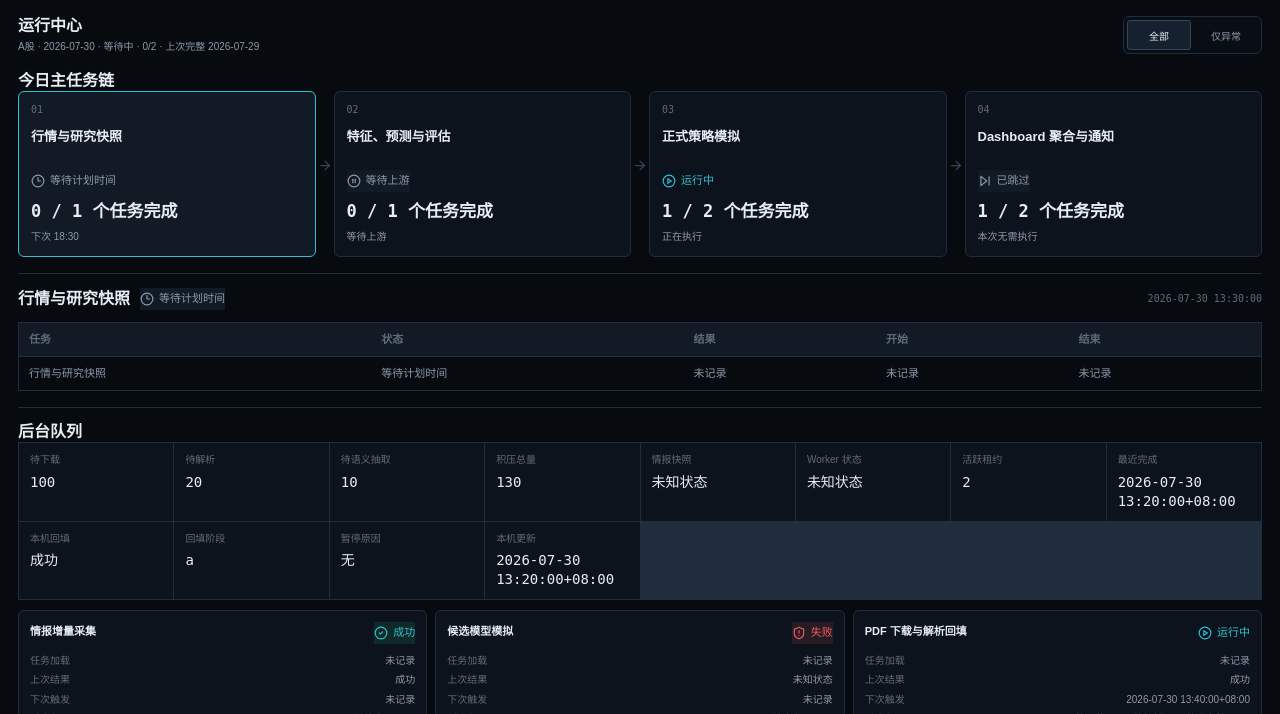
Test: OperationsPage › shows Chinese task states and drill-down without service controls
Expected: the text "等待计划时间" below "今日主任务链" is shown, [50, 174, 116, 186]
Expected: the text "等待上游" is shown, [346, 170, 410, 192]
Click the button "03 正式策略模拟 运行中 1 / 2 个任务完成 正在执行": {"x": 701, "y": 136} [649, 90, 946, 256]
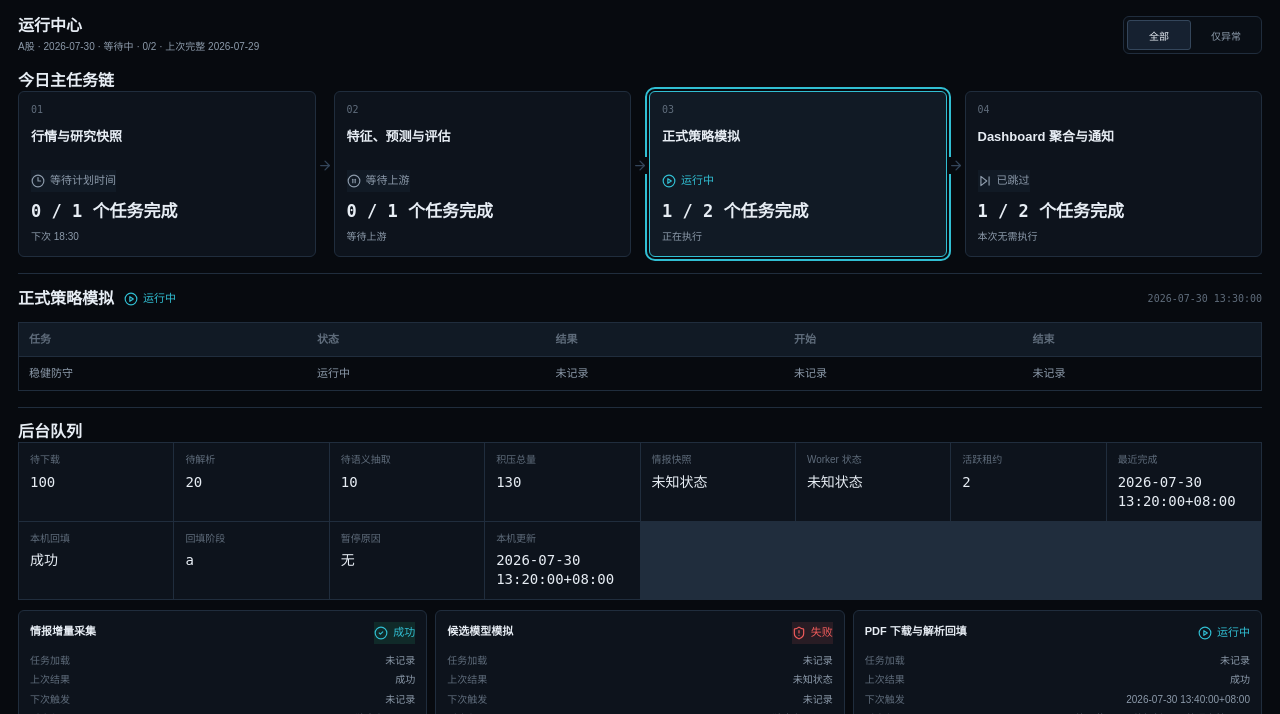
Expected: the text "候选模型模拟" is shown, [447, 622, 513, 638]
Result: the text "稳健防守" is shown at [19, 356, 307, 390]
